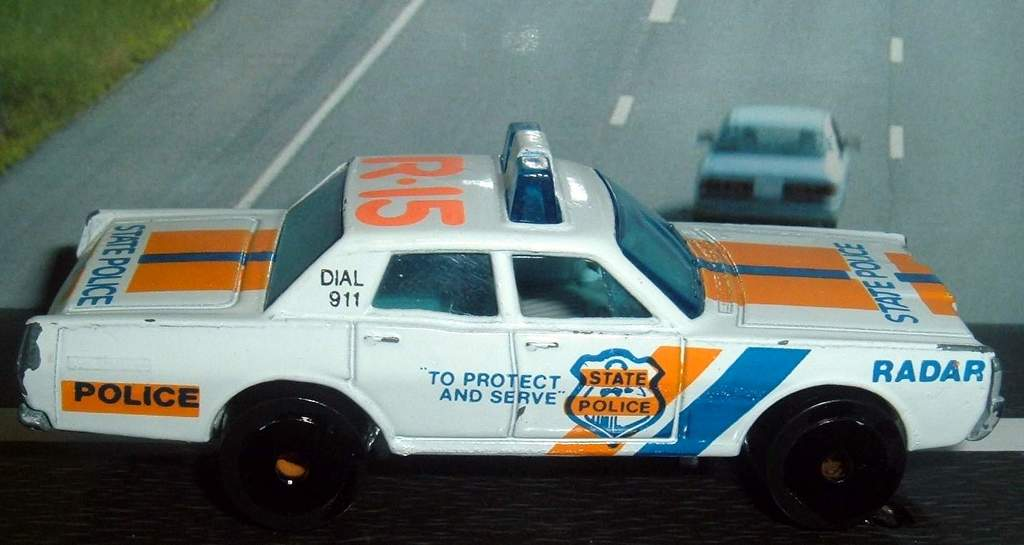Car: (15, 123, 1002, 519), (693, 98, 867, 225)
